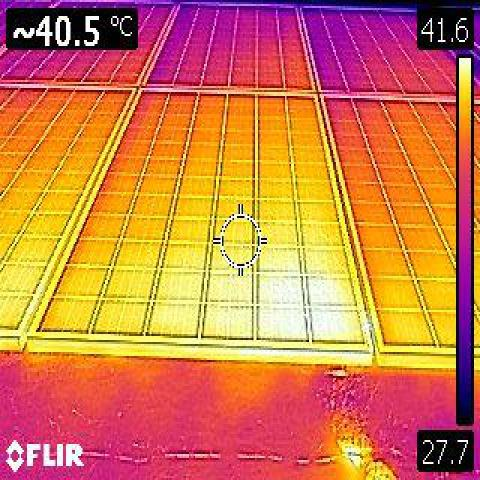fault: (256, 268, 368, 353)
